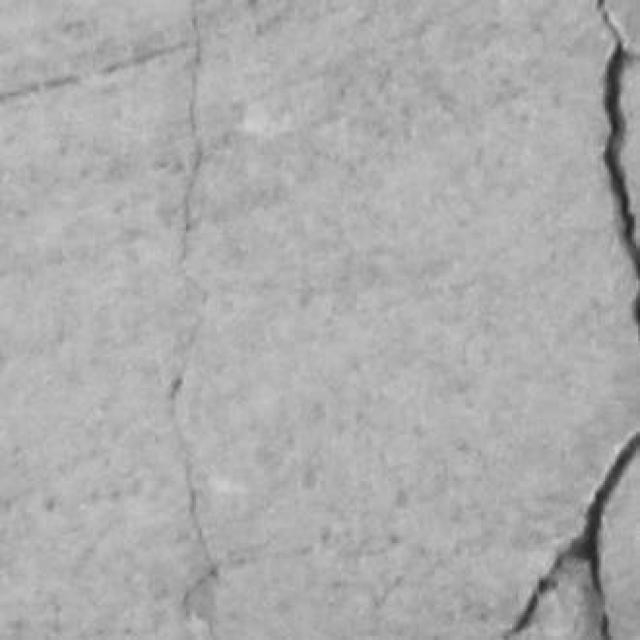crack: (505, 433, 639, 639), (169, 375, 219, 616), (0, 41, 190, 104), (598, 0, 639, 281), (179, 0, 203, 261)
